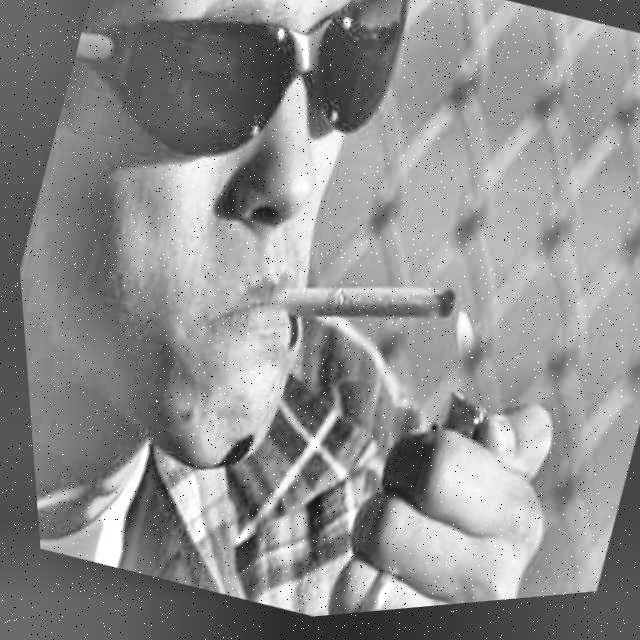Fire: (422, 302, 497, 399)
